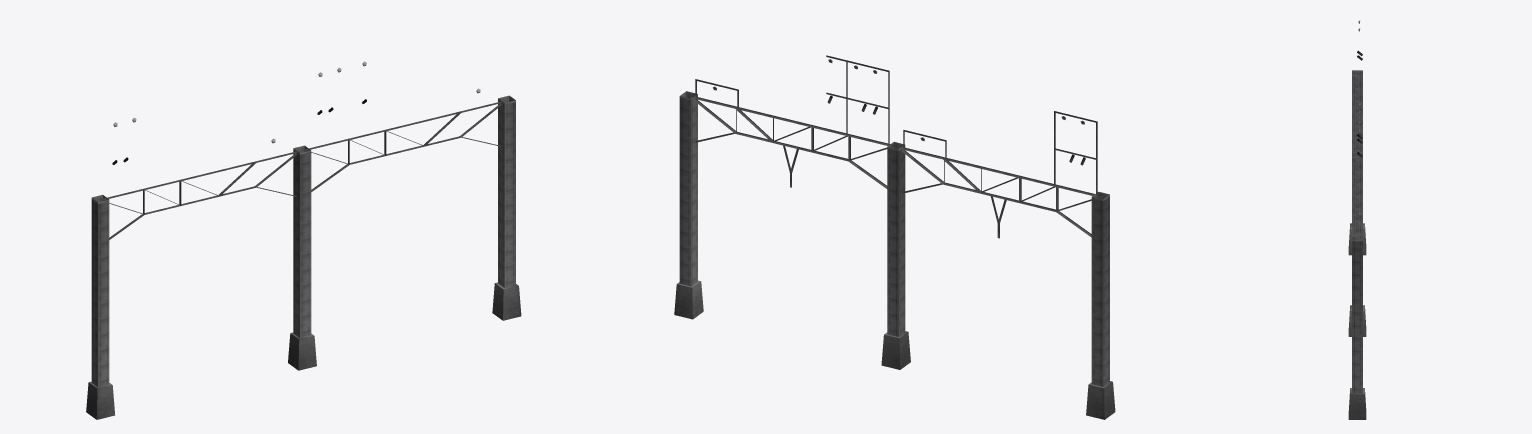
Rendered from KASENCHU_4RAIL_TOBU00.glb.
3 views of the same model, side by side, from view 1: azimuth 30°, elevation 25°; view 2: azimuth 150°, elevation 25°; view 3: azimuth 270°, elevation 25° (orthographic). The views are drawn at different scales.
Parts seen in each view (by area): view 1: obj; view 2: obj; view 3: obj.
Part boxes in pixels (x1=…): obj: x1=86, y1=61, x2=521, y2=419; obj: x1=674, y1=55, x2=1115, y2=419; obj: x1=1348, y1=20, x2=1366, y2=419.
Bounding box in the file's own units: 66.3 × 42.9 × 50.18.
10 materials, 10 textured.
